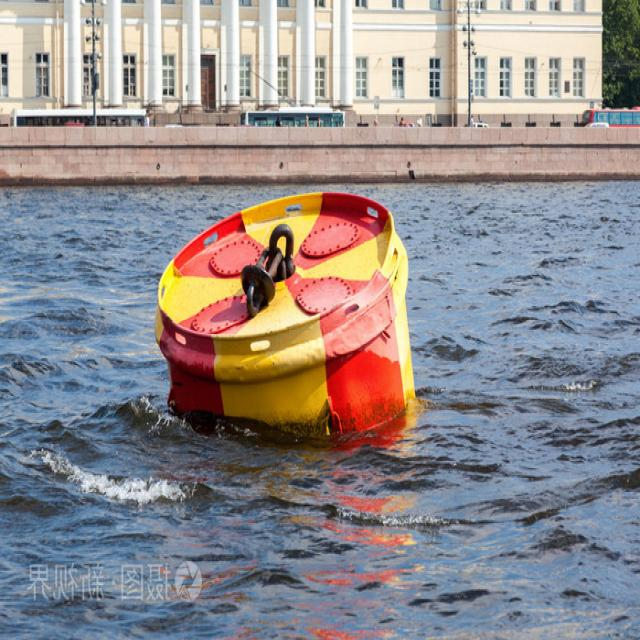buoy: (154, 184, 419, 460)
